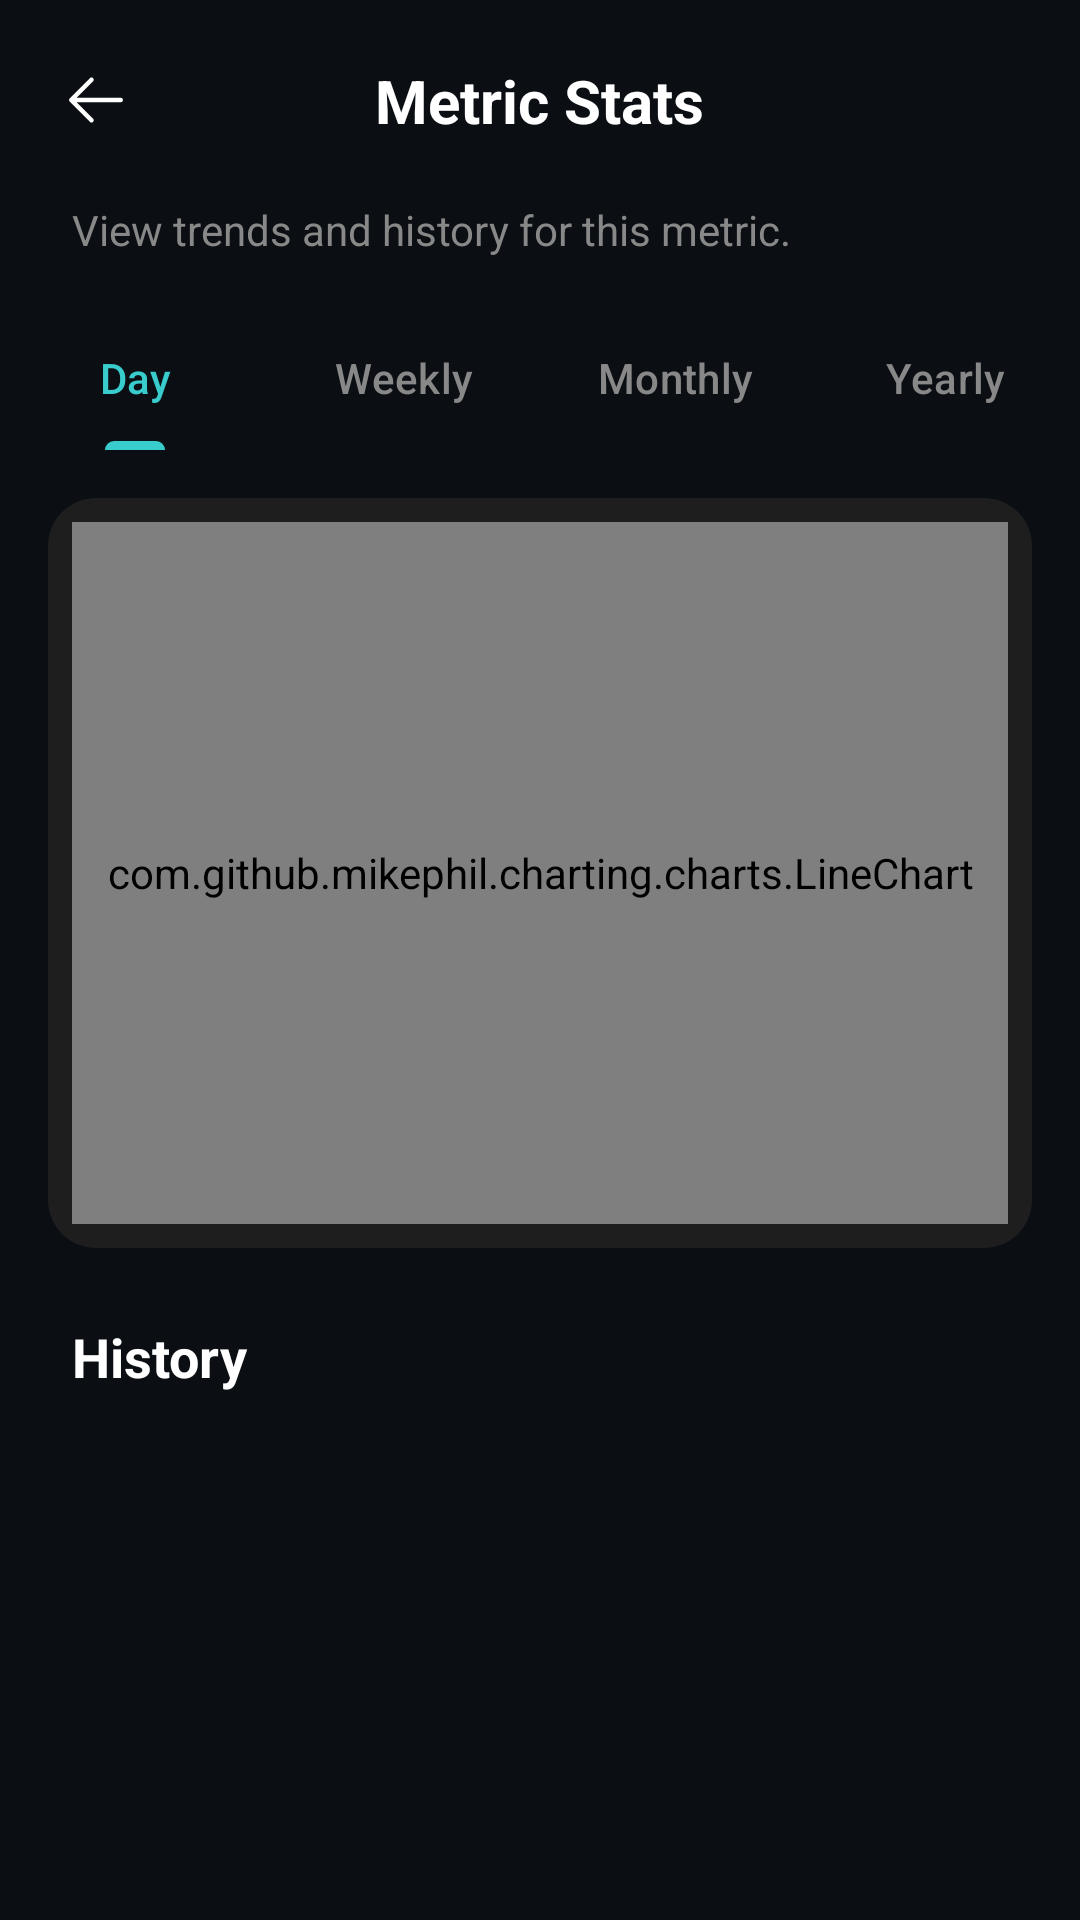

Locate icon controls on the screen. Image size 1080 x 1920, boxes as box=[x1, y1, x2, y2].
Back: box=[69, 77, 123, 123]
